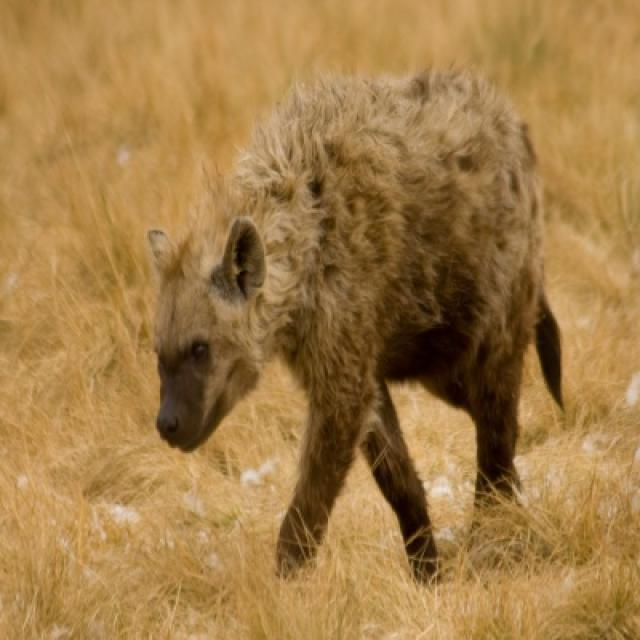hyena: (144, 67, 565, 586)
